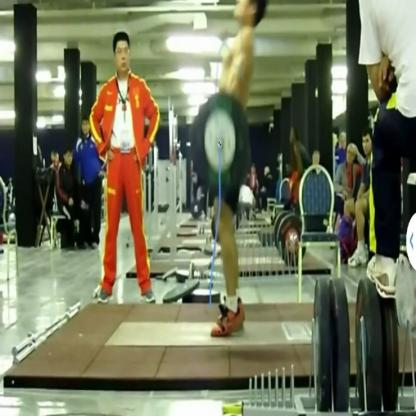Barbell: (190, 88, 254, 200)
